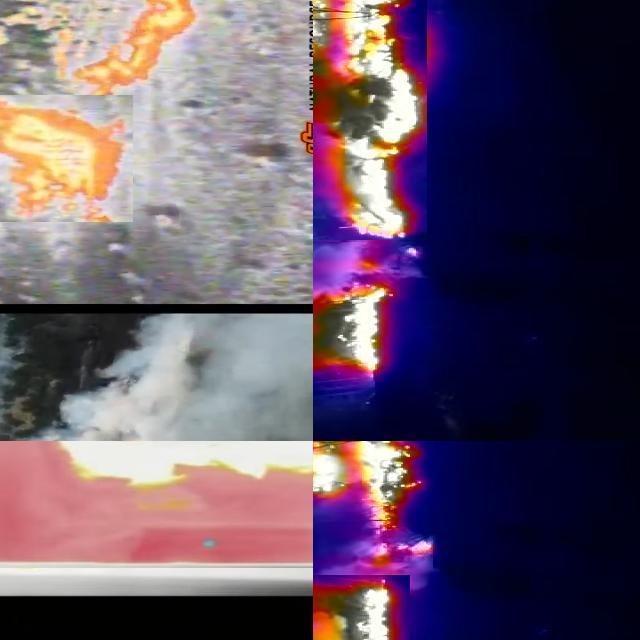fire: (1, 442, 314, 569), (314, 1, 427, 241), (1, 1, 198, 99), (1, 96, 133, 223), (314, 442, 437, 565), (314, 247, 398, 383), (314, 576, 410, 640)
